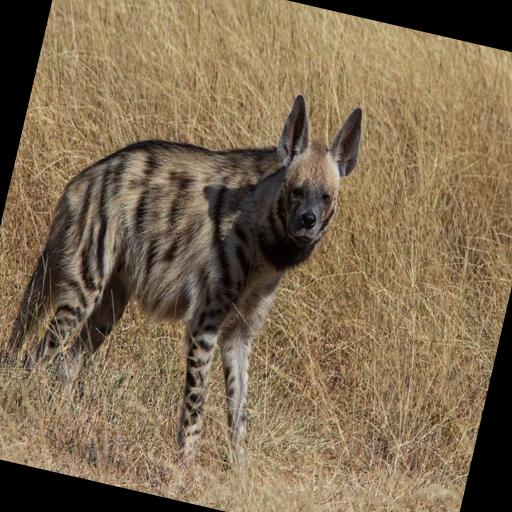hyenas: (0, 30, 380, 503)
